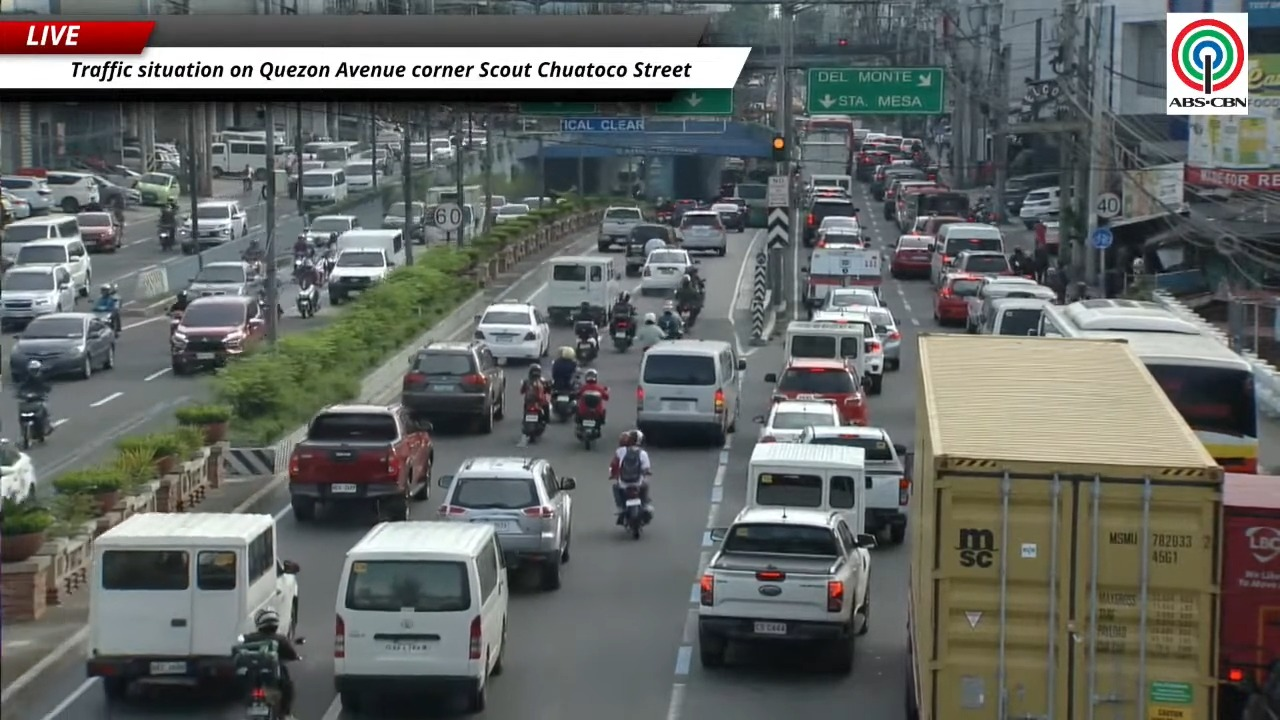bus: (1040, 299, 1258, 473), (209, 140, 266, 180), (729, 183, 767, 226), (804, 115, 856, 137), (212, 128, 264, 142)
car: (439, 457, 575, 590), (798, 426, 910, 543), (636, 340, 745, 446), (401, 339, 505, 432), (170, 295, 265, 374), (9, 312, 115, 382), (765, 358, 868, 425), (812, 307, 885, 394), (13, 218, 91, 296), (966, 275, 1055, 332), (0, 266, 76, 328), (930, 222, 1003, 286), (474, 302, 548, 361), (756, 399, 843, 442), (180, 200, 247, 253), (883, 178, 935, 231), (624, 223, 676, 276), (187, 261, 262, 297), (803, 197, 858, 246), (639, 248, 694, 294), (934, 273, 982, 325), (1005, 172, 1059, 216), (45, 171, 100, 213), (0, 439, 36, 503), (677, 210, 726, 256), (882, 177, 932, 220), (867, 306, 901, 369), (0, 175, 53, 215), (597, 206, 643, 252), (869, 164, 924, 200), (890, 234, 932, 278), (76, 212, 122, 252), (382, 201, 428, 238), (1019, 186, 1059, 228), (90, 175, 140, 208), (305, 215, 359, 245), (952, 250, 1010, 275), (135, 173, 179, 205), (821, 287, 881, 310), (814, 225, 868, 247), (344, 159, 381, 191), (93, 164, 141, 188), (916, 215, 967, 237), (710, 202, 745, 231), (0, 192, 31, 222), (818, 215, 862, 236), (721, 197, 750, 227), (493, 203, 530, 225), (671, 199, 698, 224), (519, 196, 559, 209), (488, 195, 507, 218)
motorcycle: (232, 636, 283, 719), (18, 392, 49, 449), (575, 392, 602, 449), (622, 483, 648, 539), (574, 321, 598, 364), (522, 404, 546, 443), (295, 281, 320, 318), (575, 416, 601, 451), (92, 307, 121, 334), (552, 388, 575, 421), (575, 336, 598, 364), (611, 320, 632, 350), (677, 302, 700, 328), (292, 254, 309, 283), (320, 250, 335, 277), (158, 228, 175, 251), (169, 311, 183, 336), (662, 323, 683, 339)
truck: (905, 334, 1221, 719), (697, 506, 875, 673), (288, 404, 433, 521), (1218, 473, 1279, 719), (801, 242, 882, 309), (800, 134, 851, 184), (597, 206, 643, 251), (425, 185, 483, 207)
